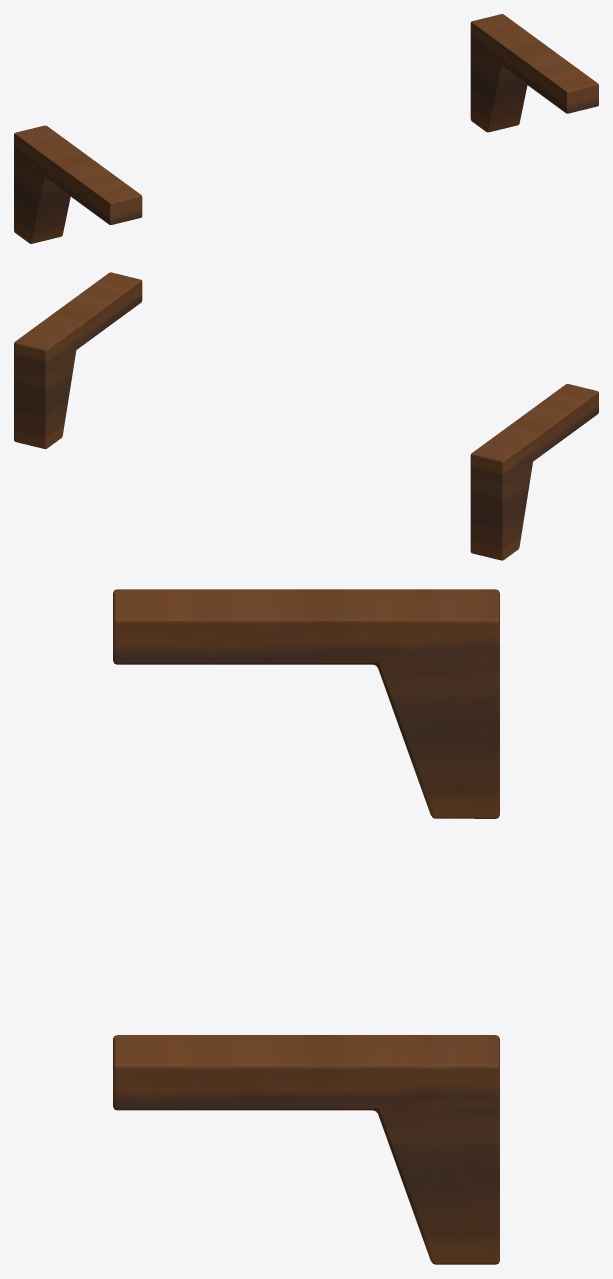
The model's file is CM_PairedWindowBay02_PlanterBrackets.fbx.
The picture shows the model from 3 angles, top to bottom: view 1: azimuth 30°, elevation 25°; view 2: azimuth 150°, elevation 25°; view 3: azimuth 270°, elevation 25°; orthographic projection. The views are drawn at different scales.
Visible parts, largest first — view 1: CM_PairedWindowBay02_PlanterBrackets_Geometry; view 2: CM_PairedWindowBay02_PlanterBrackets_Geometry; view 3: CM_PairedWindowBay02_PlanterBrackets_Geometry.
Part boxes in pixels (left/top/right/bottom): CM_PairedWindowBay02_PlanterBrackets_Geometry: left=14, top=14, right=598, bottom=243; CM_PairedWindowBay02_PlanterBrackets_Geometry: left=14, top=272, right=598, bottom=560; CM_PairedWindowBay02_PlanterBrackets_Geometry: left=113, top=589, right=499, bottom=1264.
Size of the model in its own units: 1.33 by 0.26 by 0.455.
